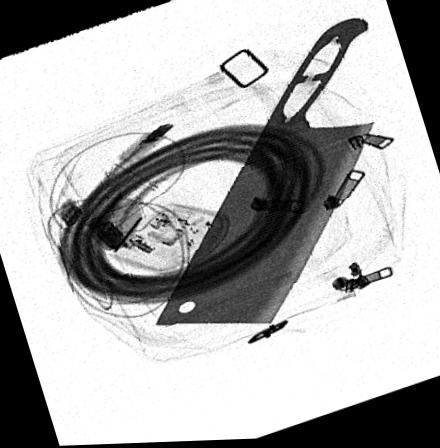Knife: (152, 16, 375, 326)
